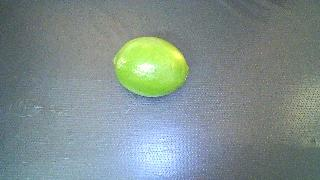EXPORTACION: (113, 37, 189, 97)
